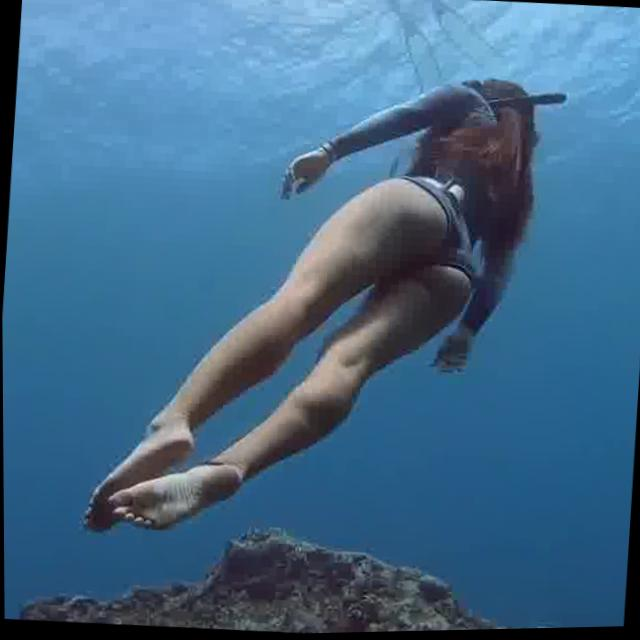human: (63, 22, 567, 579)
